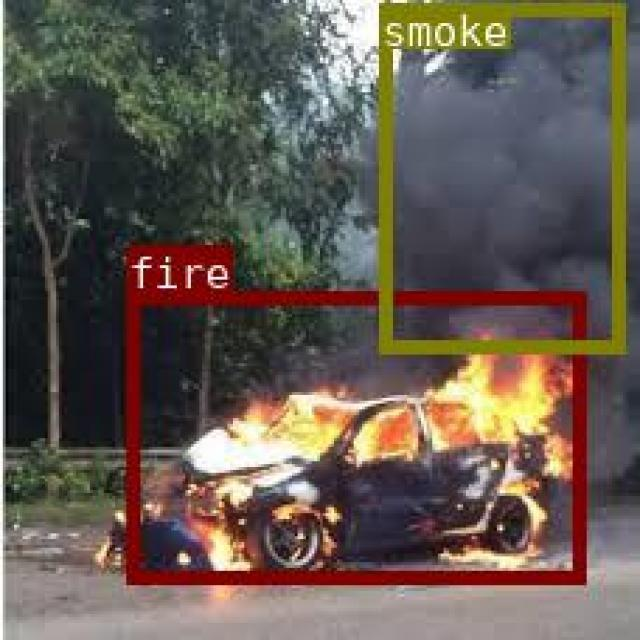fire: (124, 290, 582, 581)
smoke: (377, 1, 621, 350)
